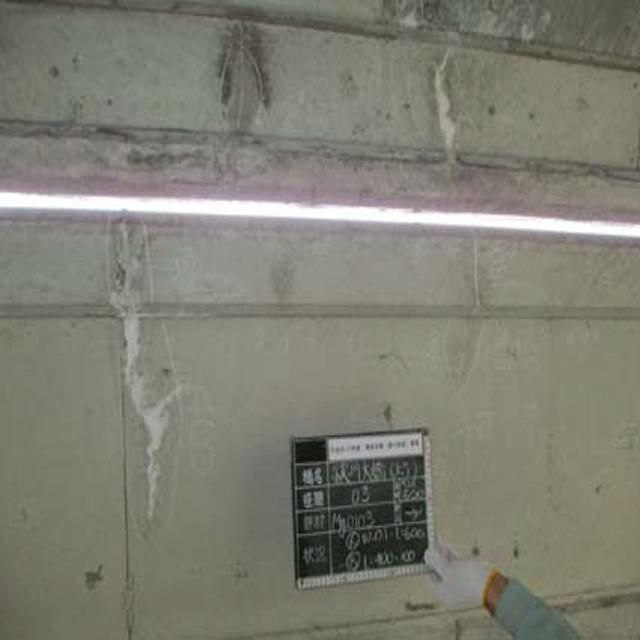freelime: (98, 228, 195, 522), (424, 40, 480, 157)
